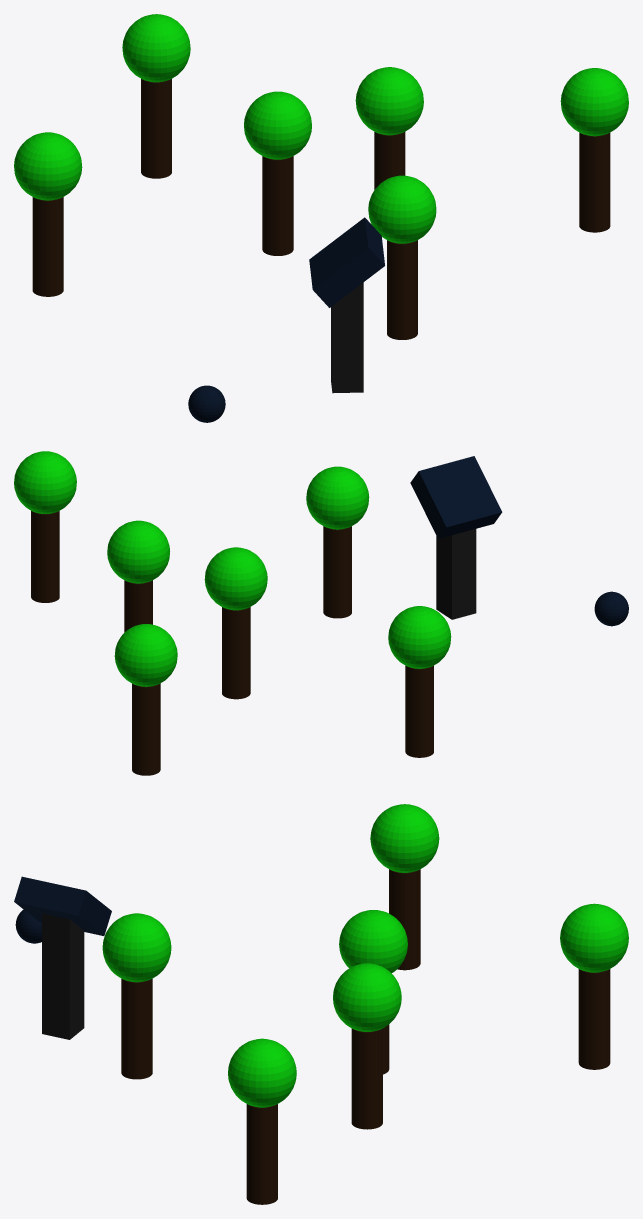
The model's file is exercise20078.obj.
3 renders of one model, top to bottom at view 1: azimuth 30°, elevation 25°; view 2: azimuth 150°, elevation 25°; view 3: azimuth 270°, elevation 25°, orthographic. The views are drawn at different scales.
Parts seen in each view (by area): view 1: Cube.001, Sphere.005, Sphere.003, Sphere, Sphere.006, Sphere.002, Sphere.004, Cube, Cylinder.002, Cylinder.003, Cylinder.006, Cylinder.004 (+4 smaller); view 2: Cube.001, Cube, Sphere.002, Sphere, Sphere.004, Sphere.005, Sphere.006, Sphere.003, Cylinder.004, Cylinder.005, Cylinder.002, Cylinder.006 (+3 smaller); view 3: Cube, Sphere.004, Sphere.005, Sphere.006, Sphere.003, Sphere, Sphere.002, Cube.001, Cylinder.005, Cylinder.004, Cylinder.003, Cylinder (+3 smaller).
Part boxes in pixels (bbox=[...]): Cube.001: bbox=[309, 217, 384, 307]; Sphere.005: bbox=[122, 14, 190, 82]; Sphere.003: bbox=[560, 68, 628, 136]; Sphere: bbox=[355, 67, 423, 135]; Sphere.006: bbox=[14, 132, 82, 200]; Sphere.002: bbox=[244, 91, 311, 159]; Sphere.004: bbox=[368, 175, 436, 243]; Cube: bbox=[331, 282, 363, 393]; Cylinder.002: bbox=[262, 156, 293, 255]; Cylinder.003: bbox=[579, 132, 610, 232]; Cylinder.006: bbox=[32, 197, 63, 296]; Cylinder.004: bbox=[387, 240, 417, 339]; Cube.001: bbox=[410, 456, 502, 538]; Cube: bbox=[436, 529, 476, 619]; Sphere.002: bbox=[204, 547, 267, 610]; Sphere: bbox=[107, 520, 169, 583]; Sphere.004: bbox=[306, 466, 369, 529]; Sphere.005: bbox=[114, 624, 177, 686]; Sphere.006: bbox=[388, 606, 451, 668]; Sphere.003: bbox=[14, 451, 76, 513]; Cylinder.004: bbox=[323, 526, 351, 618]; Cylinder.005: bbox=[132, 683, 160, 775]; Cylinder.002: bbox=[222, 607, 250, 699]; Cylinder.006: bbox=[405, 665, 433, 757]; Cube: bbox=[42, 913, 84, 1039]; Sphere.004: bbox=[102, 913, 171, 982]; Sphere.005: bbox=[560, 903, 628, 972]; Sphere.006: bbox=[370, 804, 439, 872]; Sphere.003: bbox=[228, 1038, 296, 1107]; Sphere: bbox=[333, 963, 401, 1031]; Sphere.002: bbox=[339, 910, 407, 973]; Cube.001: bbox=[14, 876, 111, 935]; Cylinder.005: bbox=[578, 969, 610, 1069]; Cylinder.004: bbox=[121, 978, 152, 1079]; Cylinder.003: bbox=[246, 1104, 277, 1204]; Cylinder: bbox=[351, 1028, 382, 1129].
Size of what is drawn, in the model's own units: 40.53 by 11.23 by 39.13.
